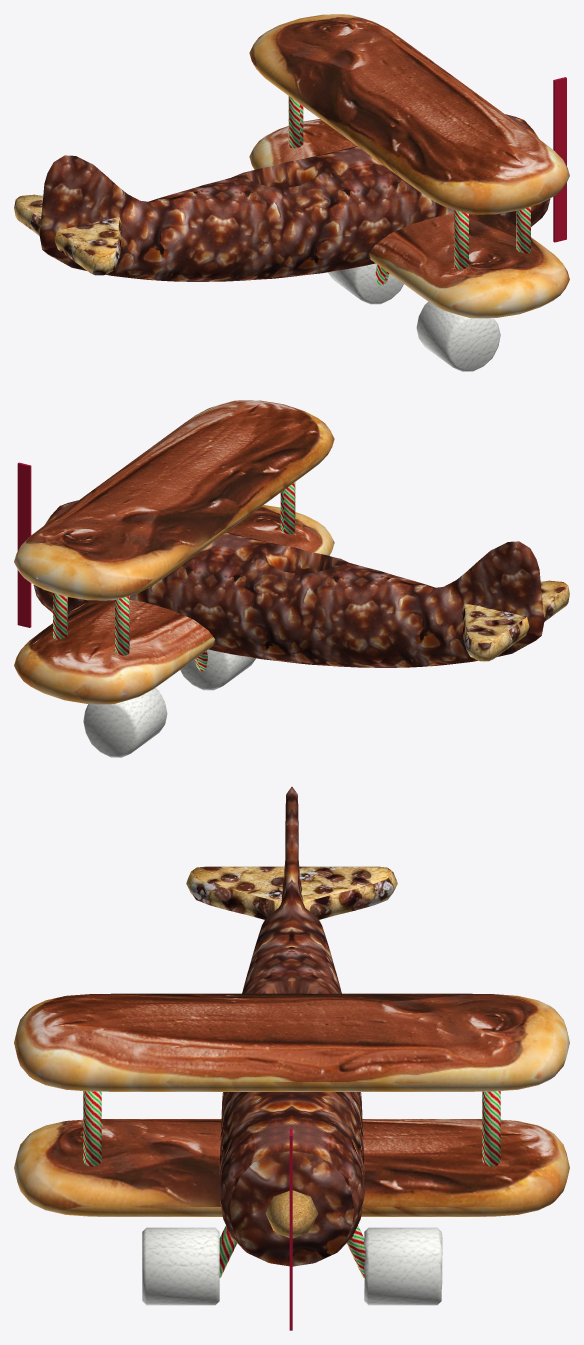
Rendered from Airplane.fbx.
3 renders of one model, top to bottom at view 1: azimuth 30°, elevation 25°; view 2: azimuth 150°, elevation 25°; view 3: azimuth 270°, elevation 25°, orthographic. The views are drawn at different scales.
Visible parts, largest first — view 1: Airplane, Propeller; view 2: Airplane, Propeller; view 3: Airplane, Propeller.
Part boxes in pixels (bbox=[...]): Airplane: bbox=[14, 14, 569, 371]; Propeller: bbox=[553, 77, 566, 242]; Airplane: bbox=[14, 400, 569, 757]; Propeller: bbox=[17, 462, 31, 627]; Airplane: bbox=[14, 787, 569, 1305]; Propeller: bbox=[289, 1128, 292, 1330].
Bounding box in the file's own units: 905 × 422 × 687.
